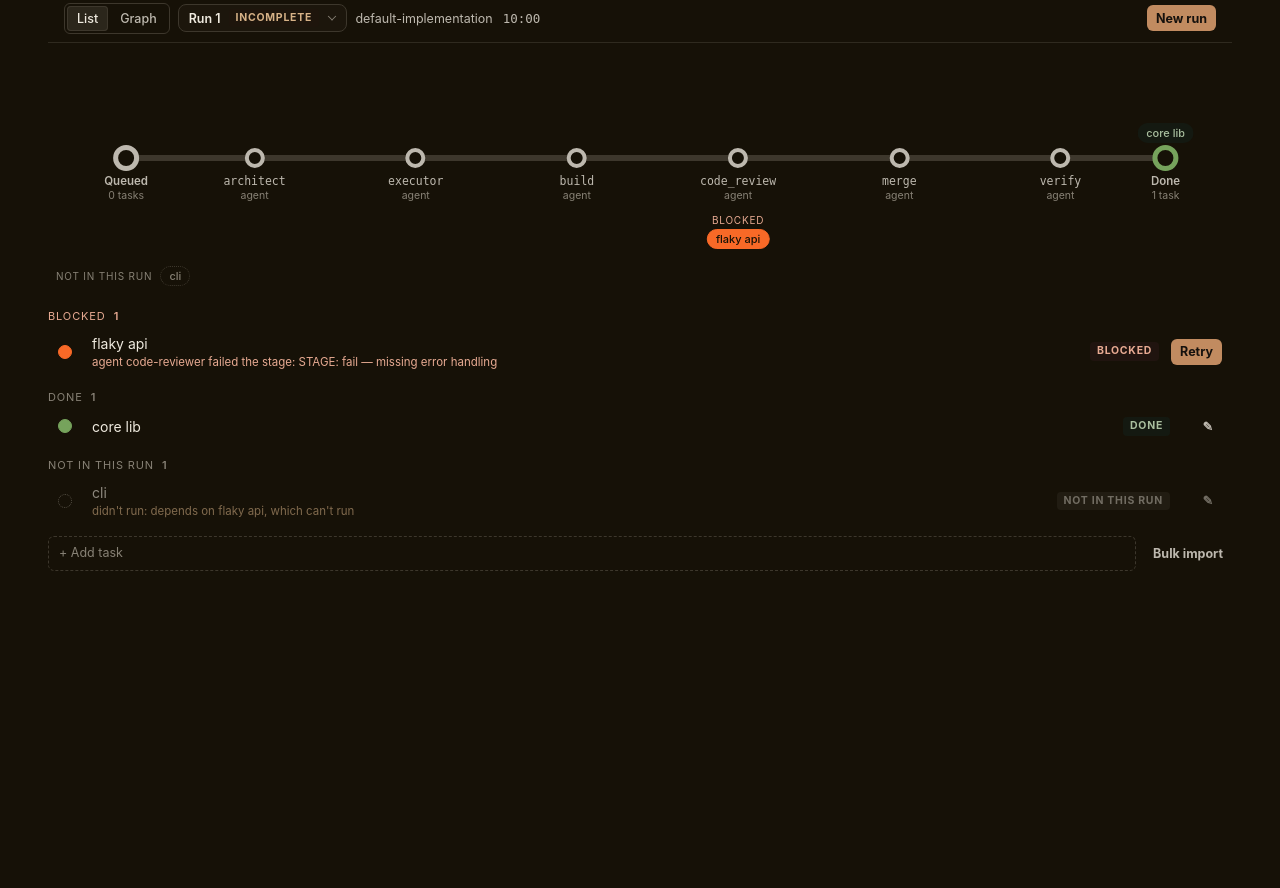
Test: TasksTab › a past run › zooms into a task: the lens replaces the list under the metro, Esc closes the sheet before the lens
Check: the button "New run" is shown, box x1=1147 y1=5 x2=1216 y2=31
Click the 2nd button "flaky api" at [120, 343], box x1=92 y1=332 x2=1078 y2=354
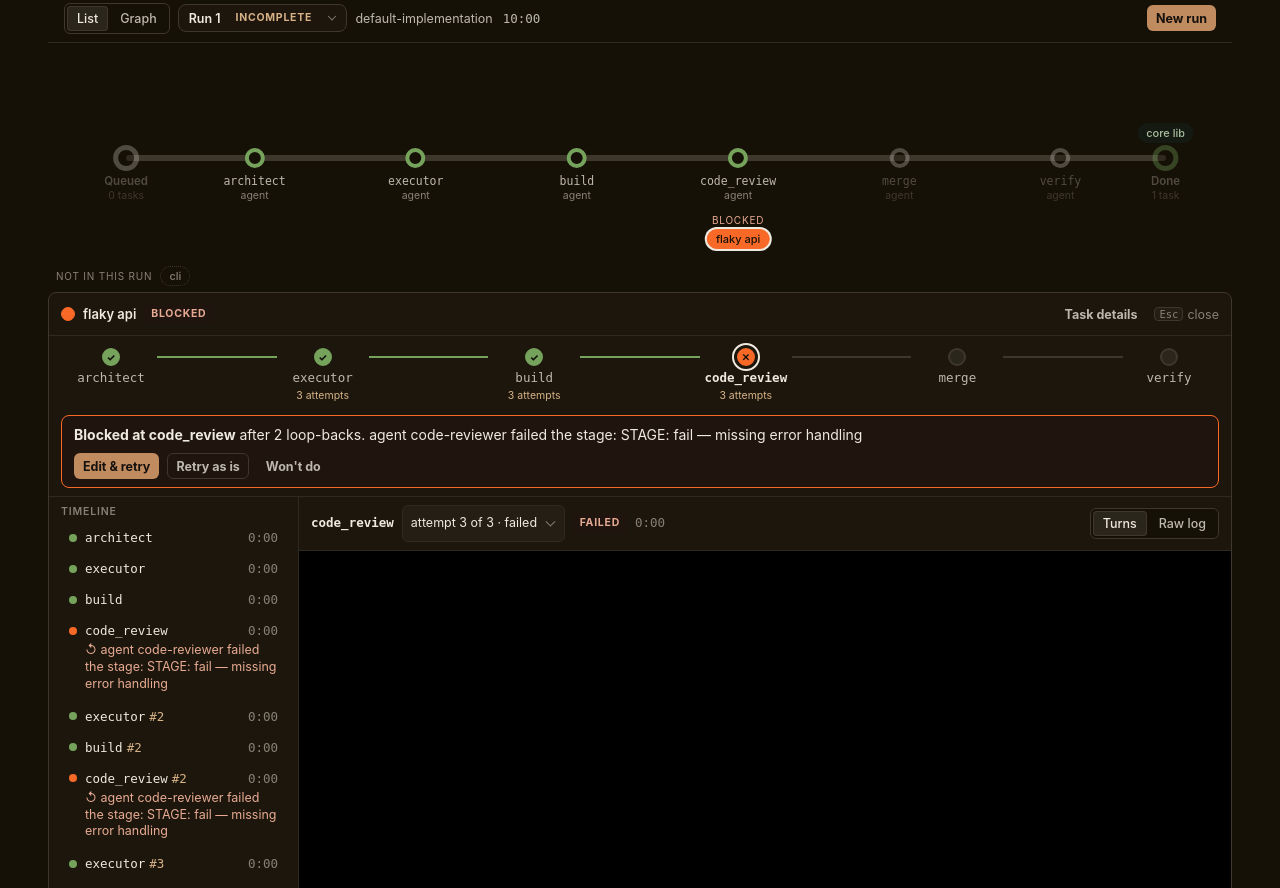
Check: the element with test id "metro" is shown, box x1=56 y1=55 x2=1224 y2=292
Check: the text "Blocked at code_review" is shown, box x1=74 y1=426 x2=236 y2=443
Click the button "Edit & retry" at [117, 466], box x1=74 y1=453 x2=159 y2=479
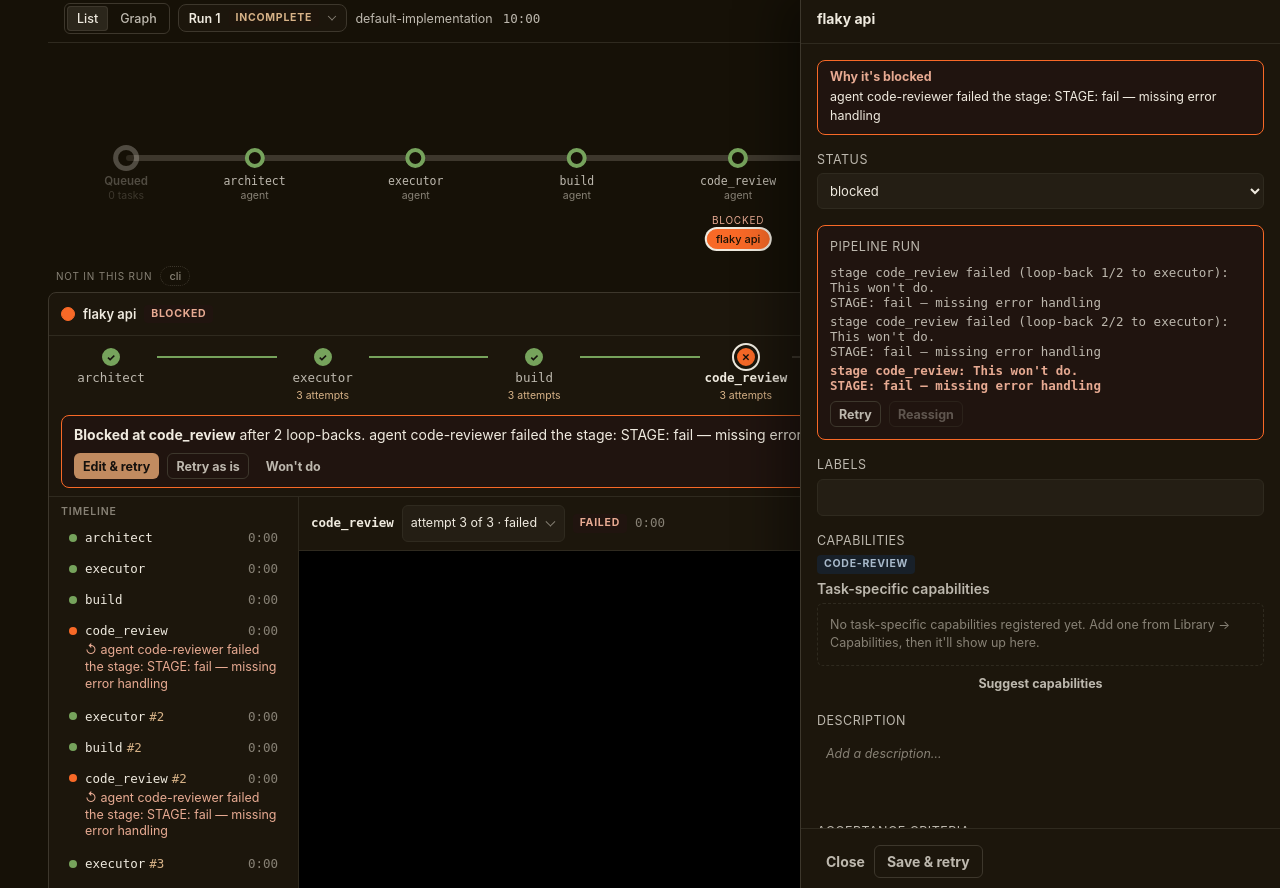
Check: the text "Why it's blocked" is shown, box x1=830 y1=69 x2=932 y2=84
Check: the button "Save & retry" is shown, box x1=874 y1=845 x2=983 y2=878
Press Escape
(page scrolled)
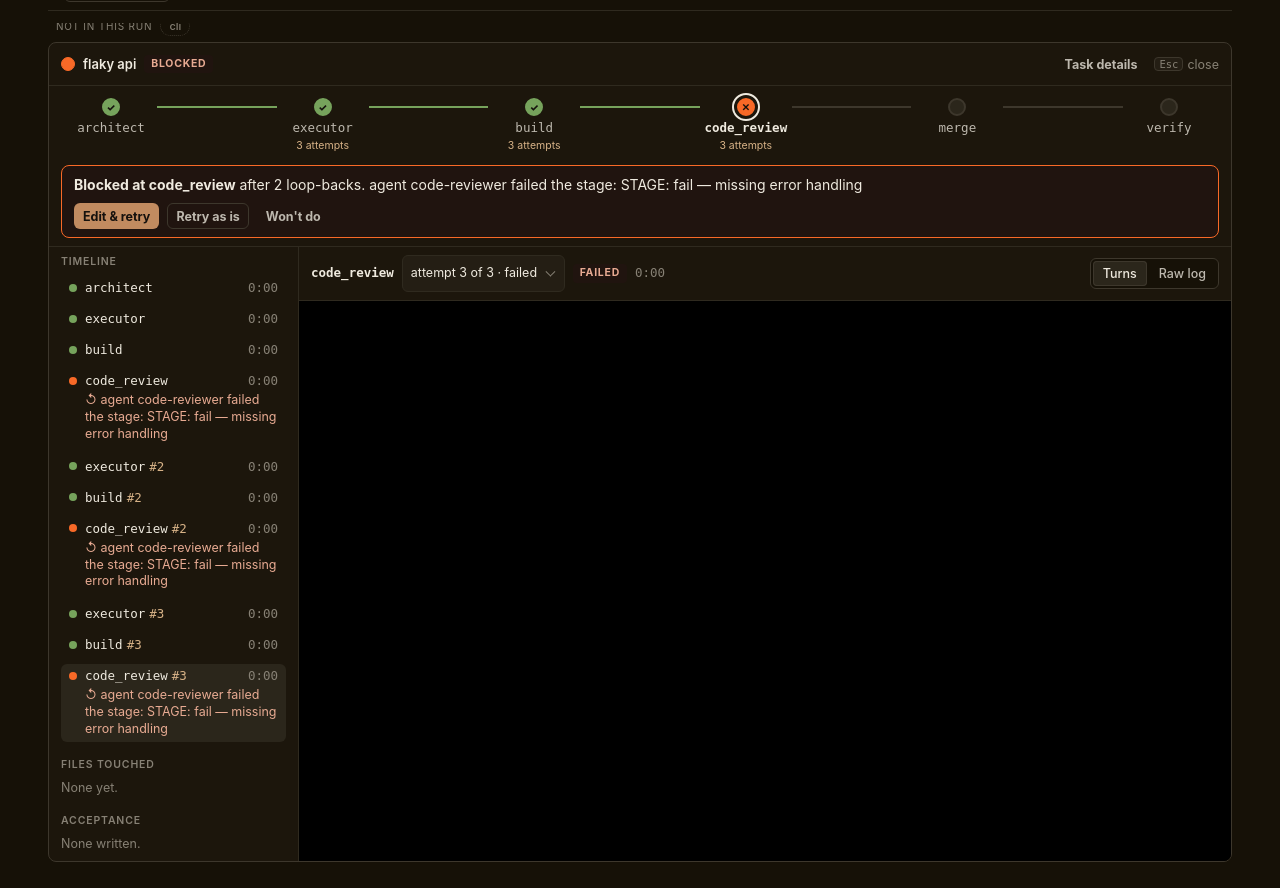
Check: the element with test id "task-lens" is shown
Check: the text "Why it's blocked" is gone
Press Escape
(page scrolled)
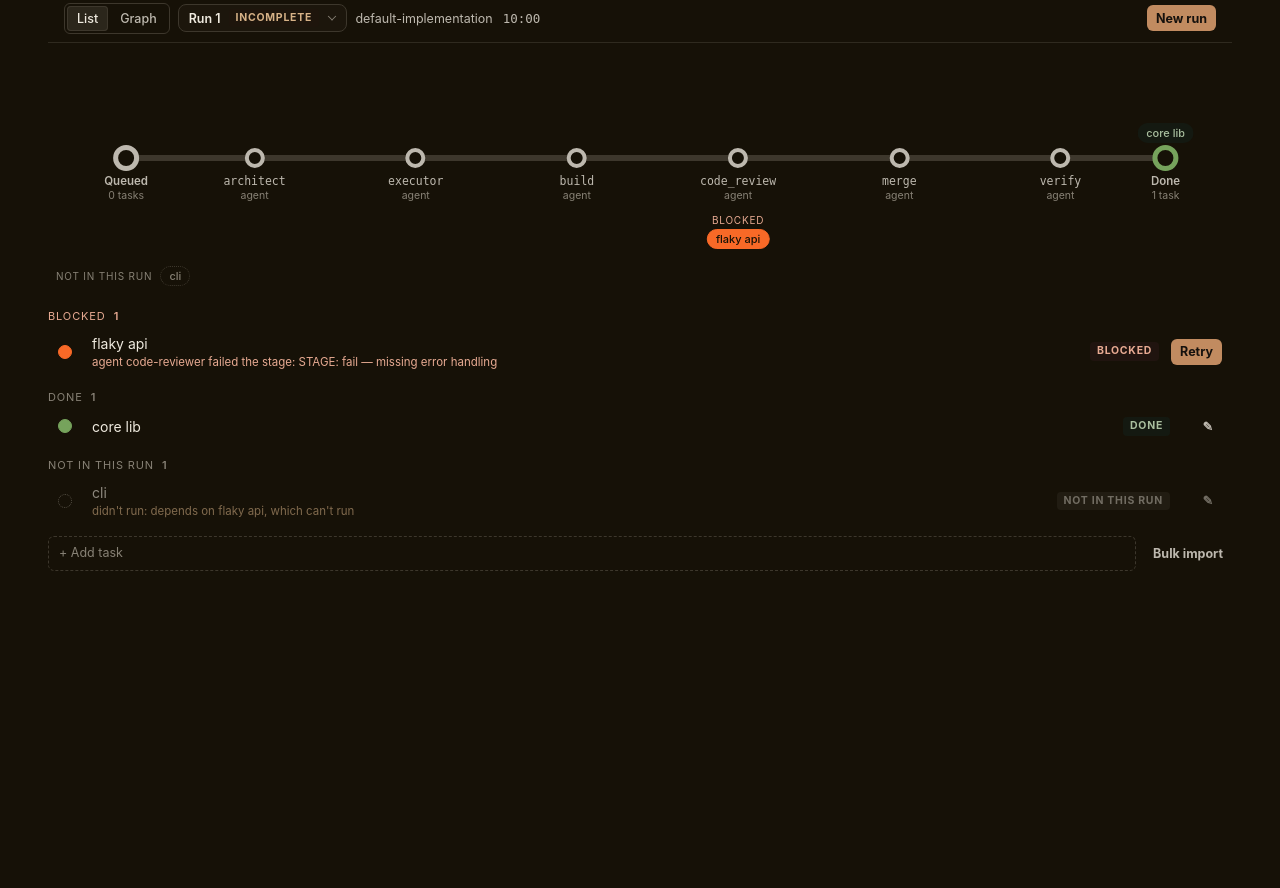
Check: the element with test id "task-lens" is gone
Check: the heading "Blocked 1" is shown, box x1=48 y1=309 x2=119 y2=323
